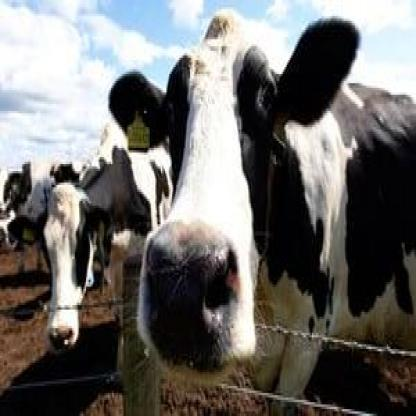cow: (107, 8, 416, 403), (37, 120, 174, 351), (0, 159, 114, 289)
